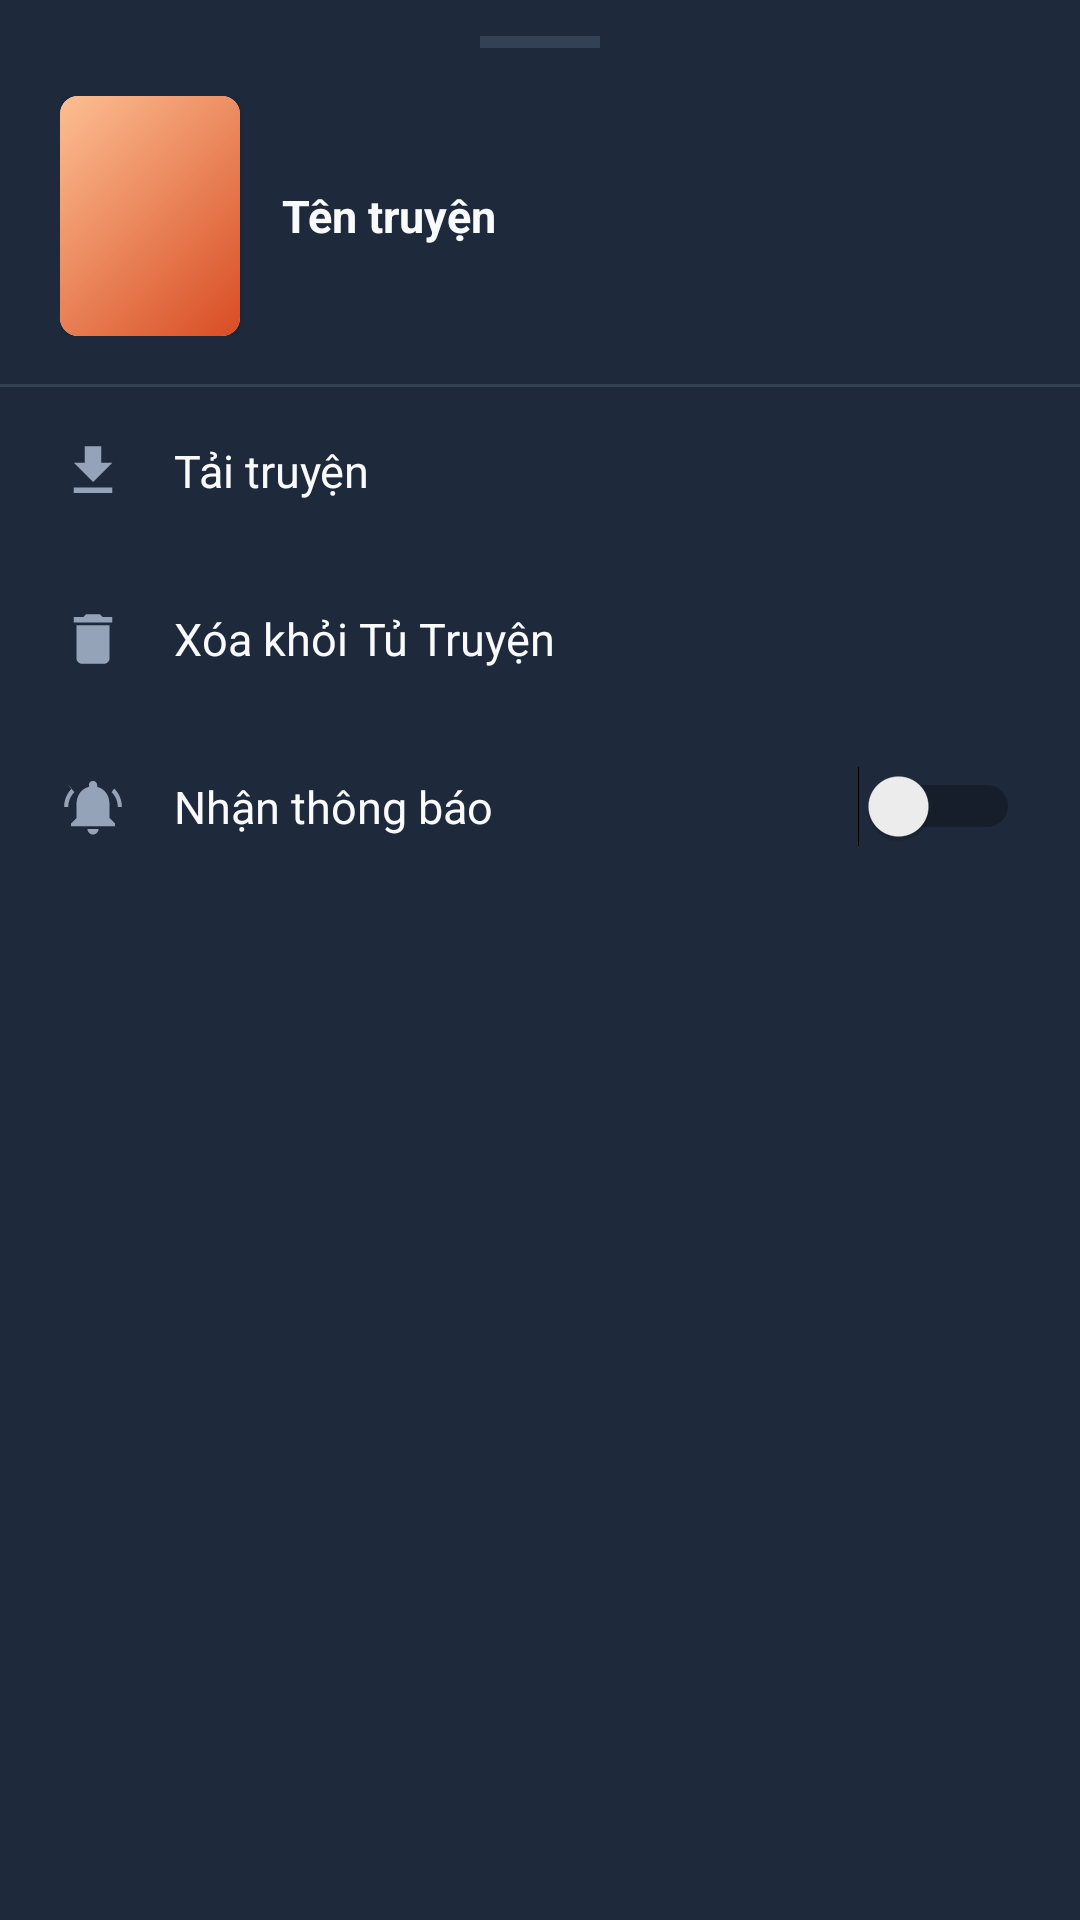

Screen size 1080×1920. Icon name, then its center in pixels as [x,y]:
delete: [93,639]
download: [93,469]
